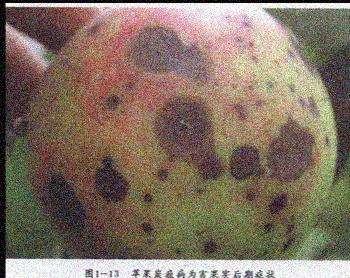rotten apple: (6, 18, 337, 255)
